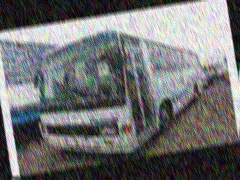bus: (23, 16, 214, 167)
